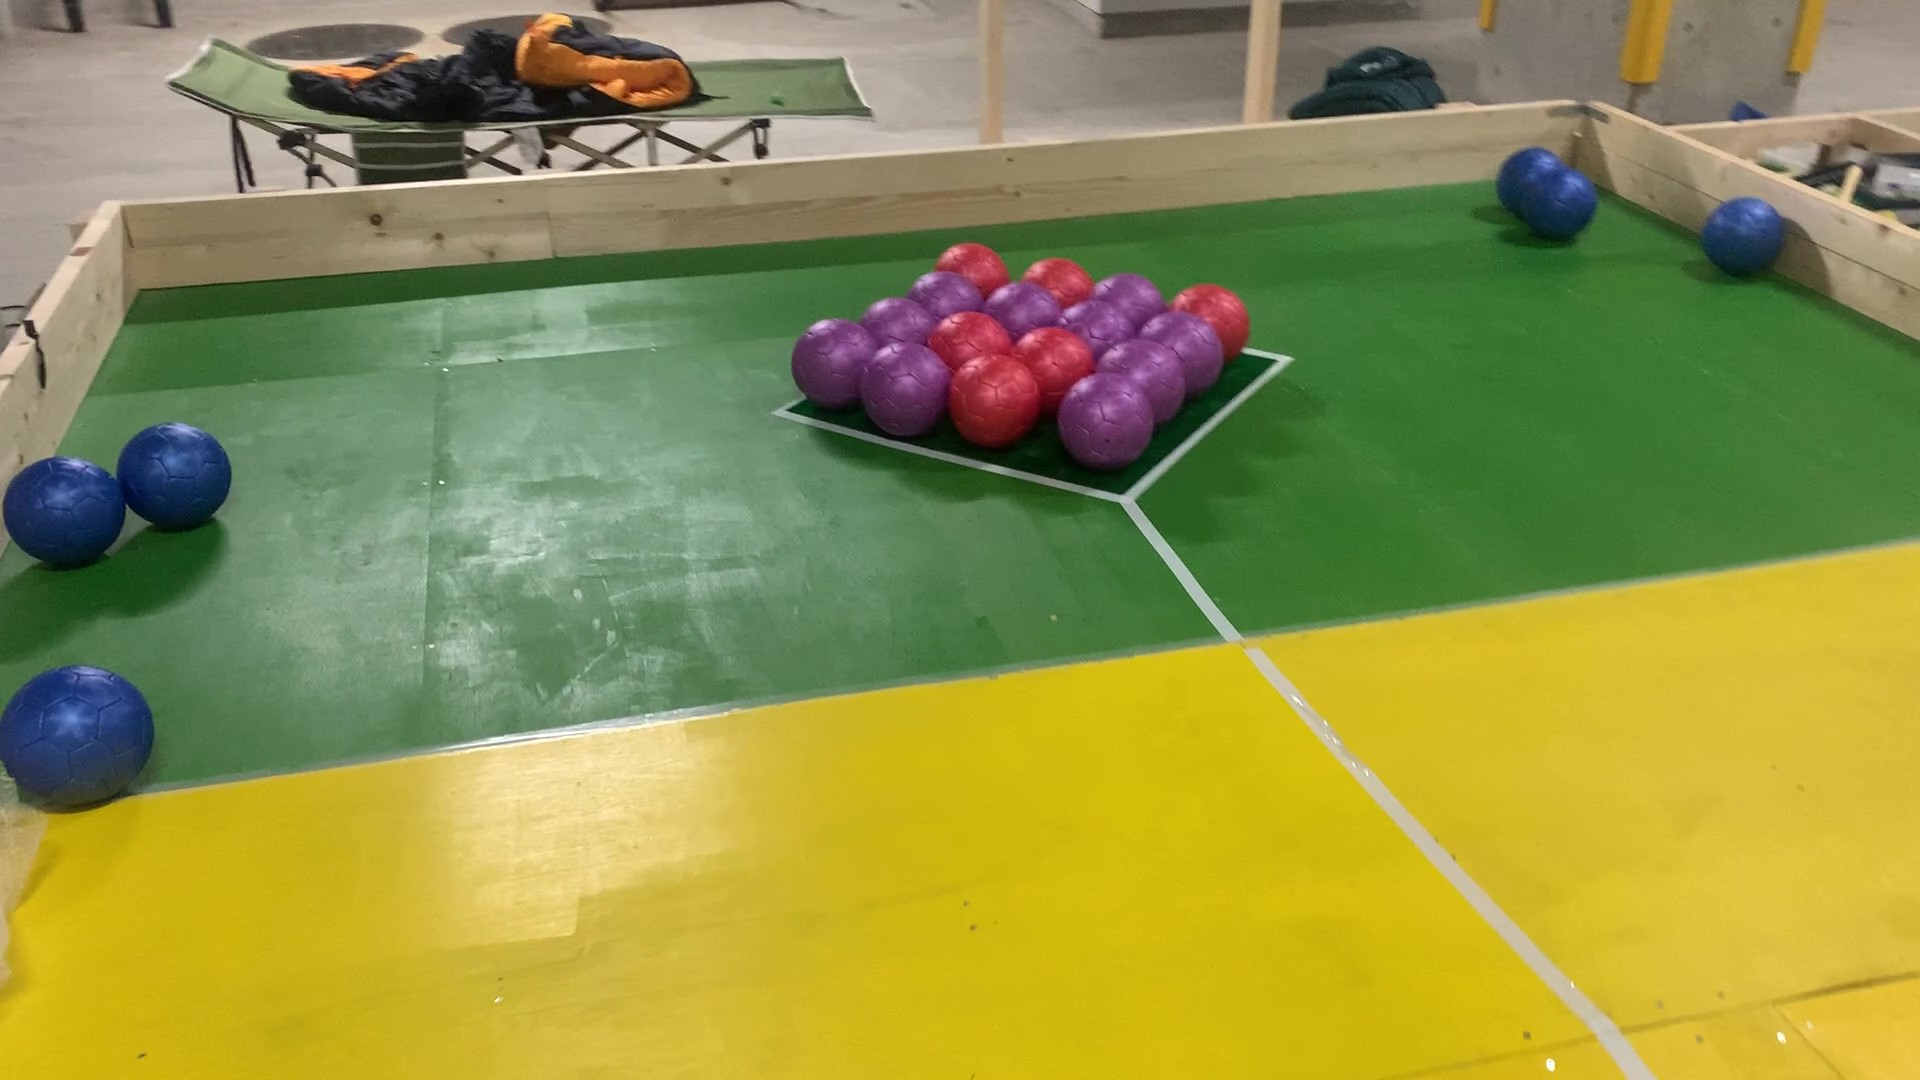blue: (15, 678, 142, 793), (16, 468, 105, 555), (140, 436, 220, 516), (1710, 202, 1775, 272), (1531, 182, 1584, 233), (1502, 150, 1530, 202)
purple: (1072, 390, 1146, 462), (866, 351, 936, 425), (800, 326, 857, 405), (1110, 345, 1176, 386), (1102, 270, 1160, 313), (1185, 318, 1220, 382), (996, 287, 1046, 323), (1046, 258, 1091, 298), (1081, 302, 1126, 340), (872, 302, 919, 336), (916, 277, 964, 310)
red: (961, 367, 1031, 434), (1034, 338, 1084, 390), (1193, 281, 1246, 324), (940, 320, 1002, 357), (955, 244, 1000, 278)
